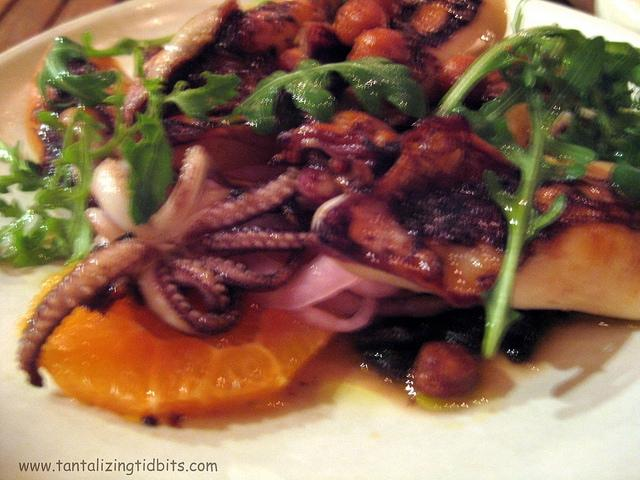orange: (34, 294, 336, 416)
